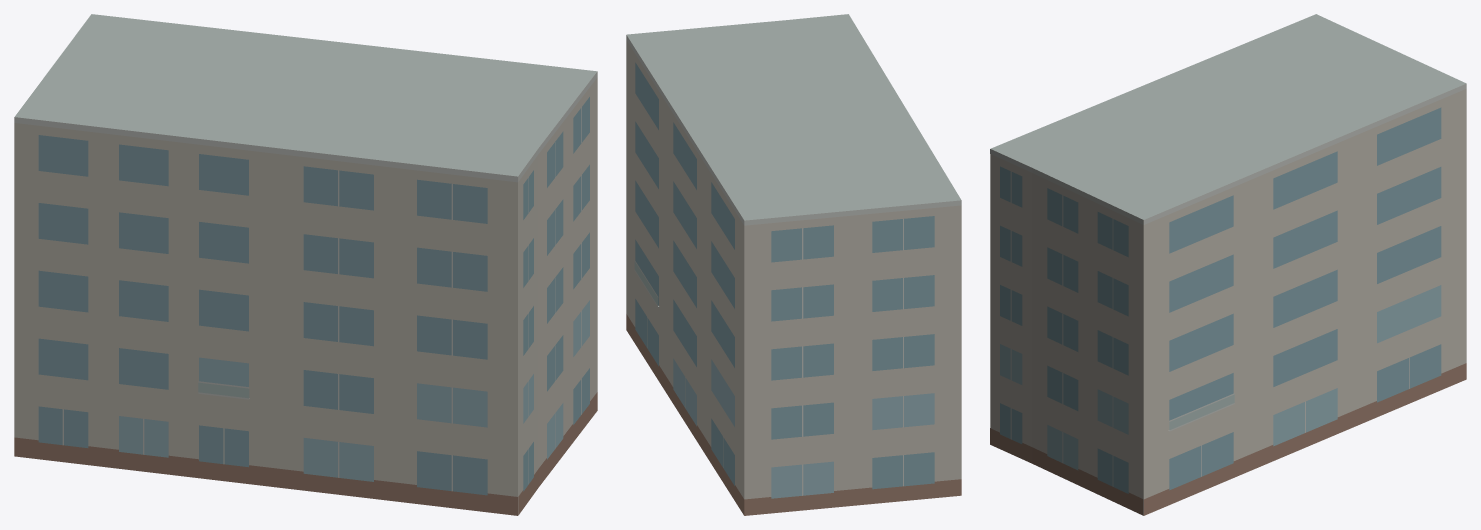
The model's file is survey-upis-32753613.glb.
3 views of the same model, side by side, from view 1: azimuth 30°, elevation 25°; view 2: azimuth 150°, elevation 25°; view 3: azimuth 270°, elevation 25° (orthographic). The views are drawn at different scales.
Parts seen in each view (by area): view 1: survey-upis-32753613.tmp; view 2: survey-upis-32753613.tmp; view 3: survey-upis-32753613.tmp.
Boxes of the visible parts, x1=… form: survey-upis-32753613.tmp: x1=14, y1=14, x2=597, y2=515; survey-upis-32753613.tmp: x1=626, y1=14, x2=961, y2=515; survey-upis-32753613.tmp: x1=990, y1=14, x2=1466, y2=515.
Bounding box in the file's own units: 21.21 × 14.2 × 20.73.
